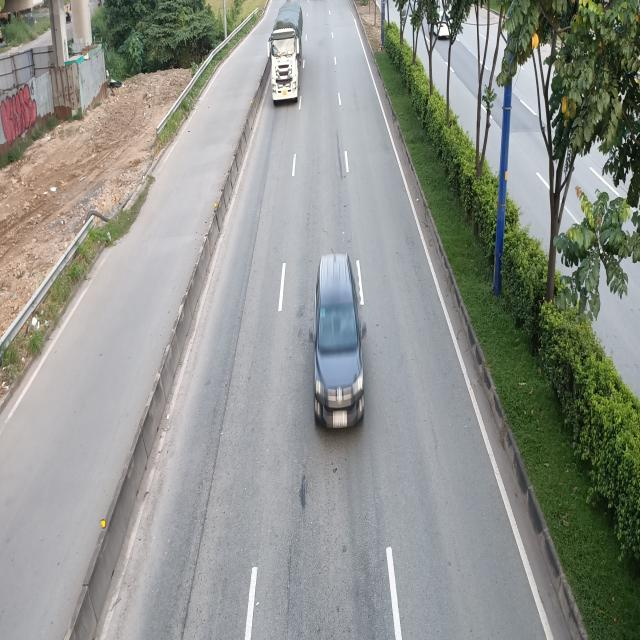car: (310, 254, 369, 431)
container: (268, 0, 303, 102)
